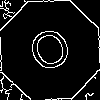O: (25, 25, 79, 82)
